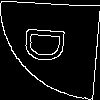D: (24, 25, 75, 65)
